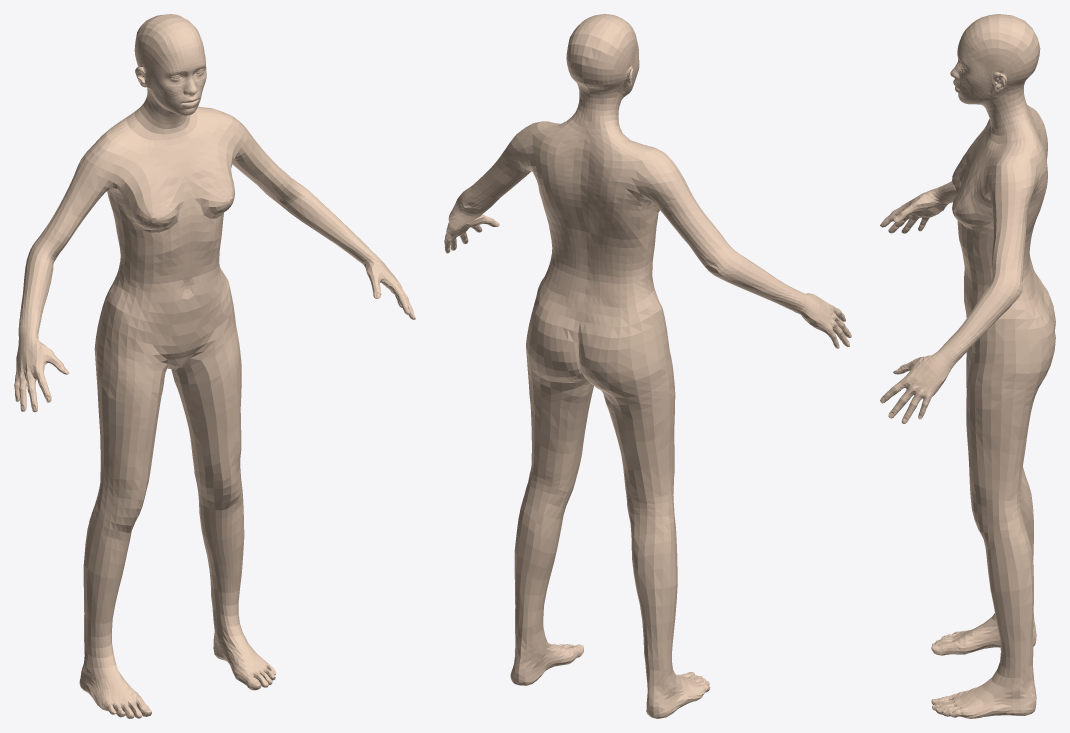
Rendered from female-young-fit-toned.glb.
3 views of the same model, side by side, from view 1: azimuth 30°, elevation 25°; view 2: azimuth 150°, elevation 25°; view 3: azimuth 270°, elevation 25° (orthographic).
Visible parts, largest first — view 1: world; view 2: world; view 3: world.
Part boxes in pixels (bbox=[...]): world: bbox=[14, 14, 415, 718]; world: bbox=[444, 14, 851, 718]; world: bbox=[880, 14, 1055, 718].
Bounding box in the file's own units: 1.09 × 1.76 × 0.4218.
